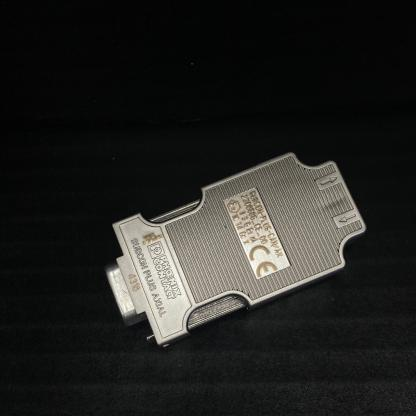SP0000010: (83, 62, 381, 364)
